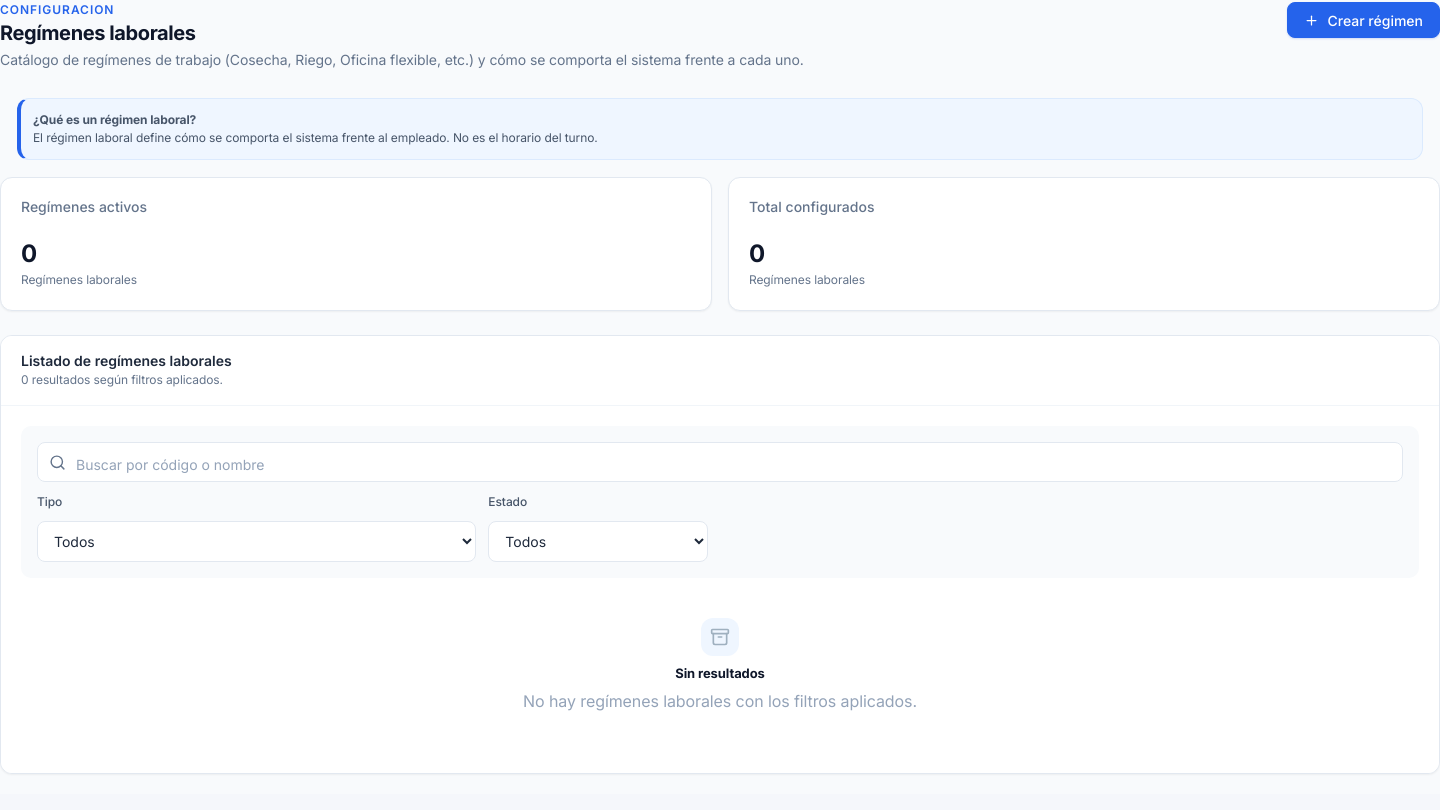
Scenario: WorkRegimesPage — Etapa 15M.7C.1 (política de turno por kind) › muestra y activa el control al seleccionar TURNO_OBLIGATORIO
Click the button "Crear régimen" at (1364, 20), box [1288, 2, 1439, 38]
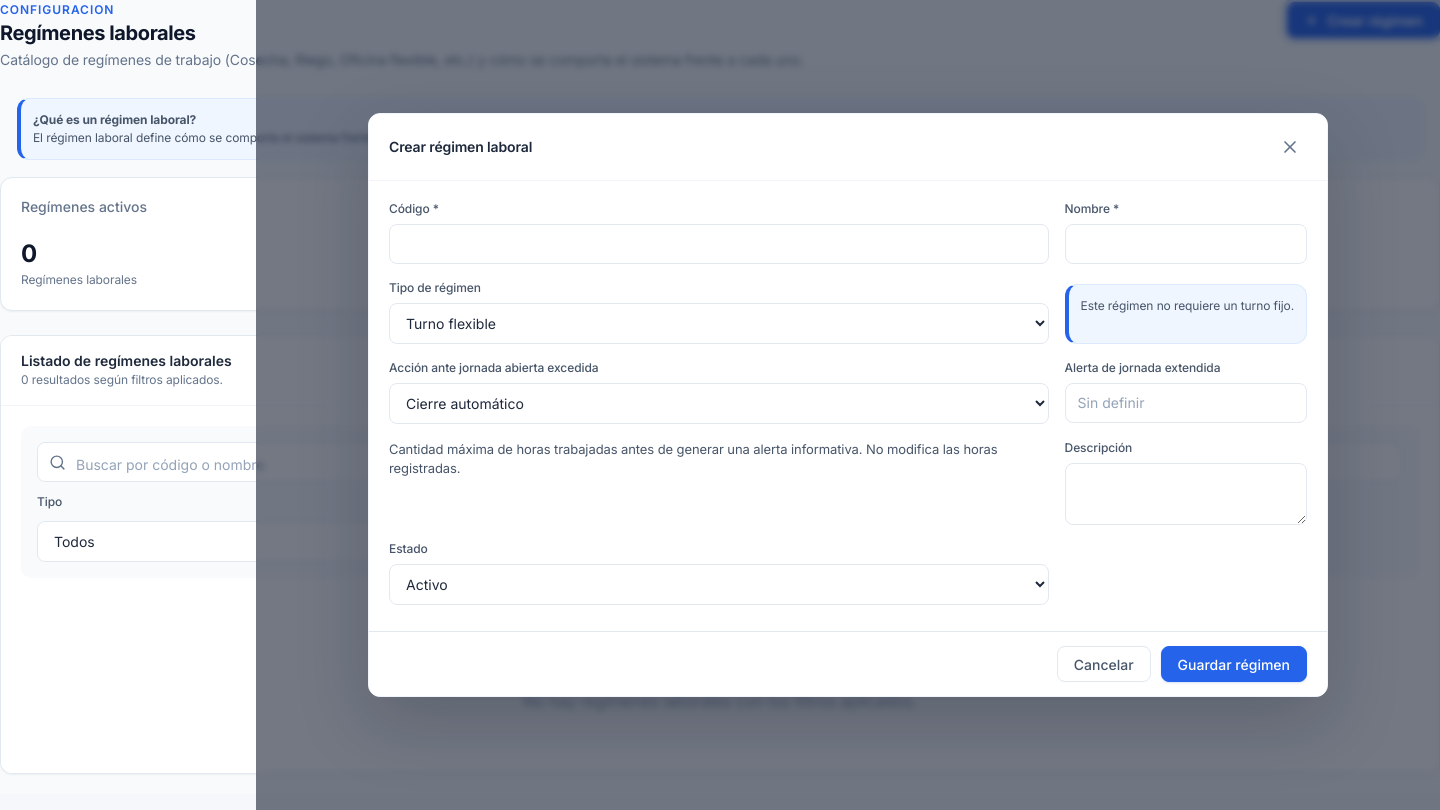
Select "Turno obligatorio" in the dropdown labelled "Tipo de régimen" at (719, 323), box [389, 303, 1049, 344]
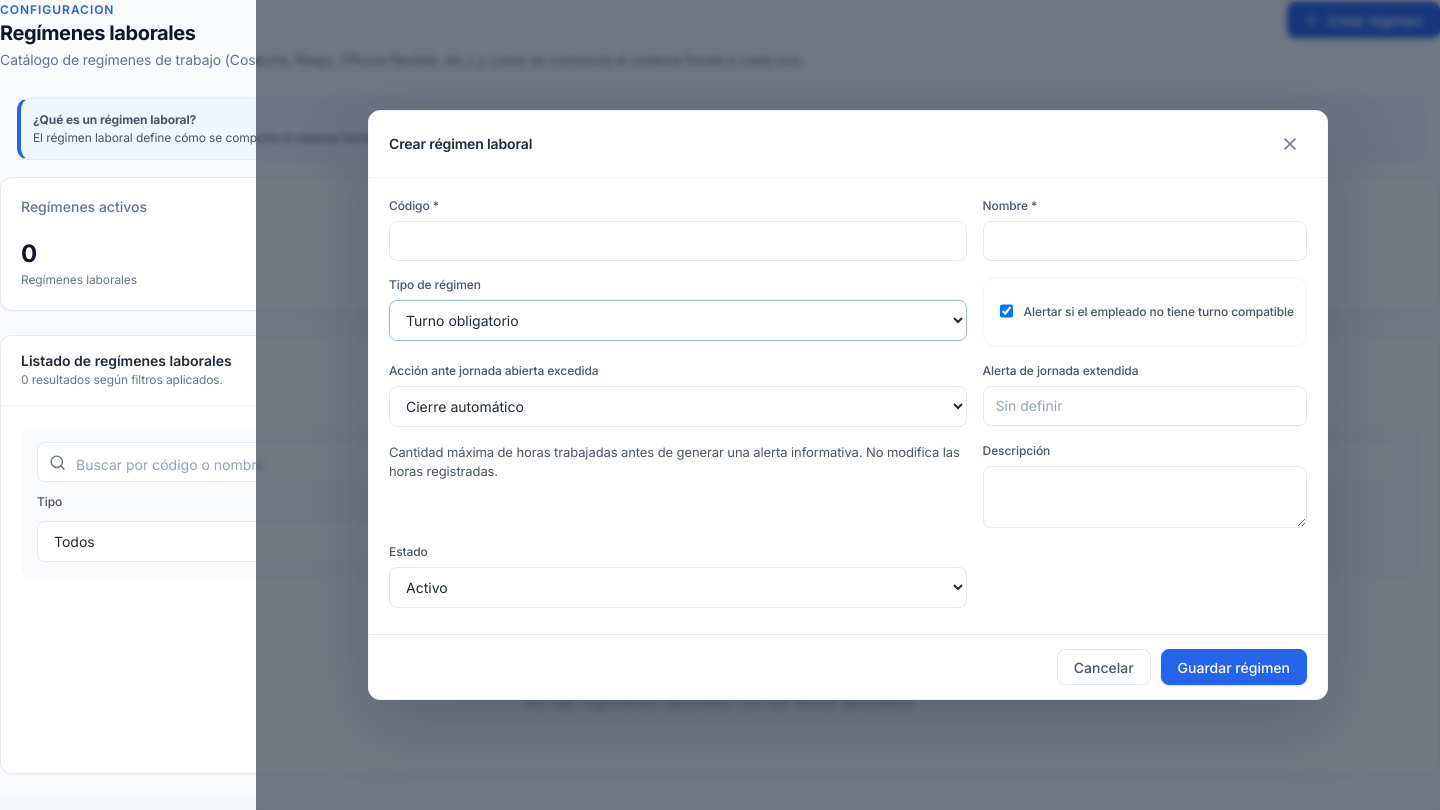
Check: the checkbox labelled "Alertar si el empleado no tiene turno compatible" is checked, box [1000, 291, 1013, 331]
Check: the text "Este régimen no requiere un turno fijo." is gone
